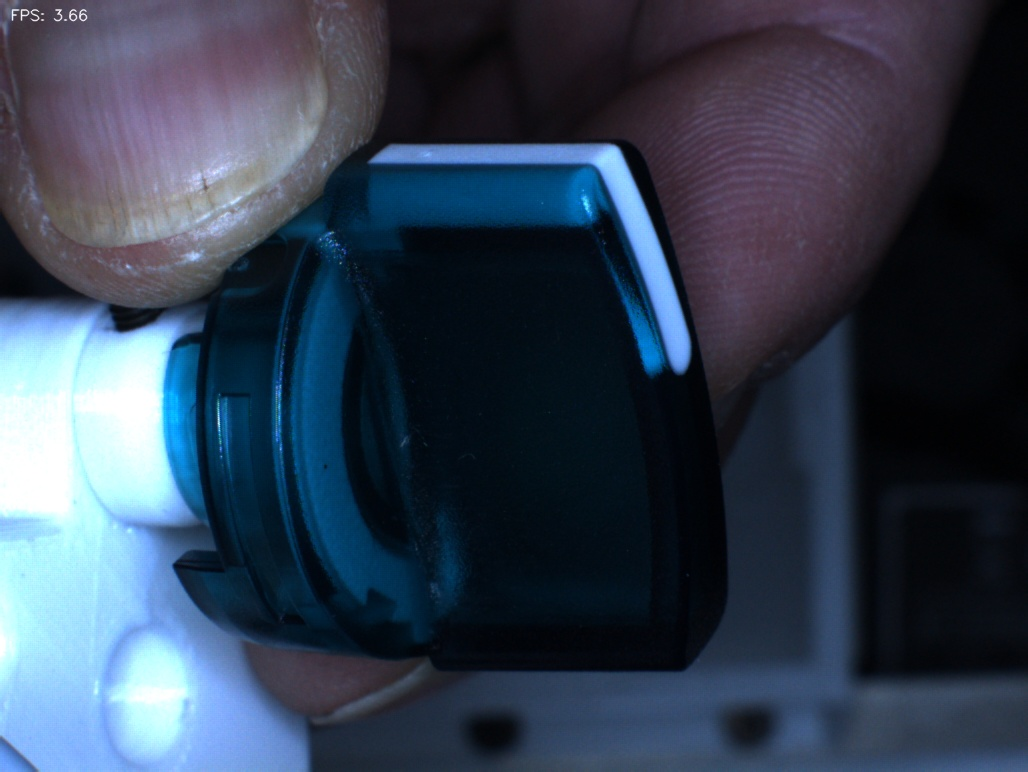PointNoir: (292, 426, 361, 508)
